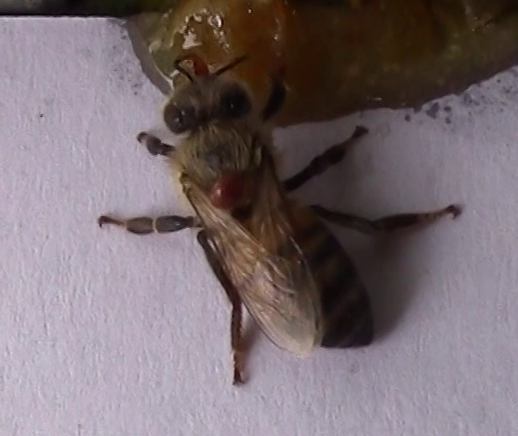Varroa destructor: (206, 169, 253, 211)
